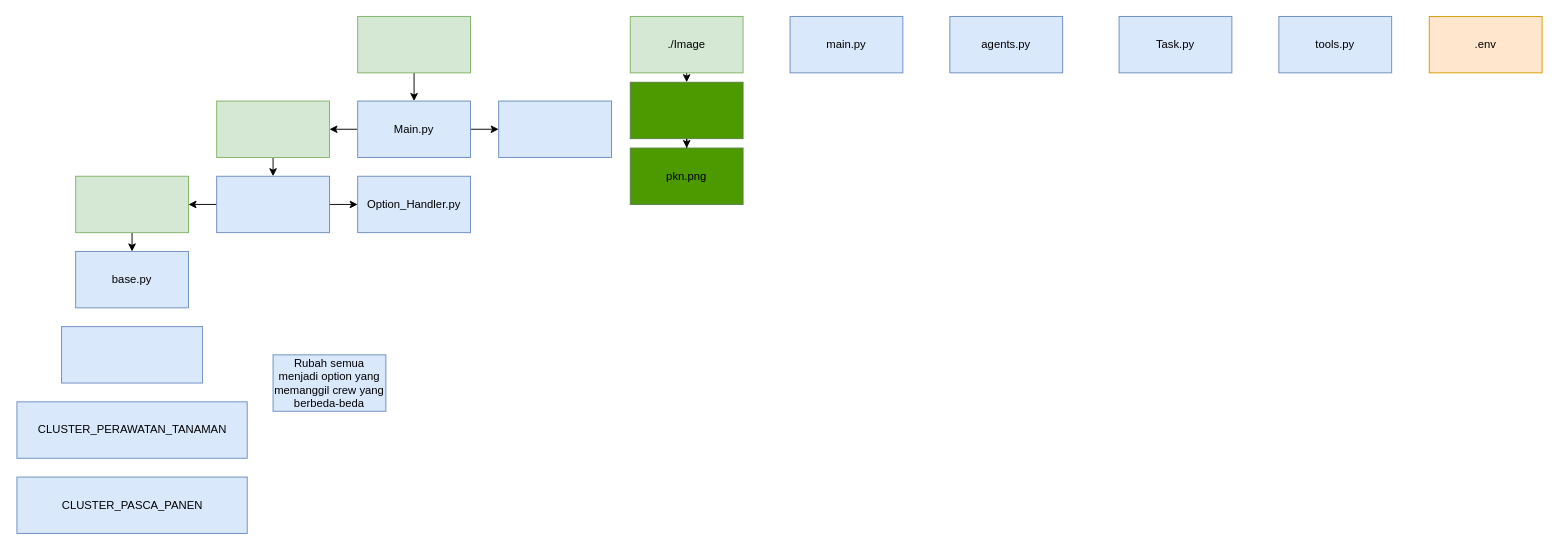
Some shapes in this 1559 by 550 pixel diagram are drawn without their labels. The centre of each missing label's shape, as x and y in pixels:
./components: point 413,44
./Isubcomponents: point 272,128
./Options: point 131,204
CLUSTER_PENYAKIT: point 132,354
gema.png: point 686,110
Header.py: point 554,128
Logo.py: point 272,204
